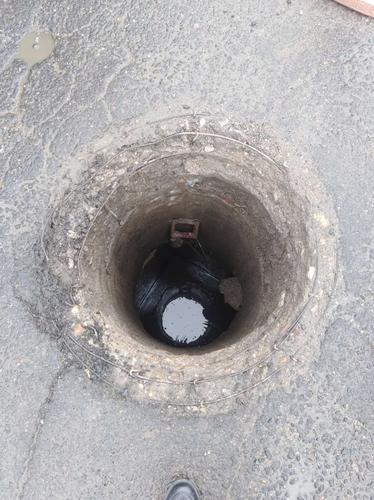lose: (39, 136, 339, 403)
